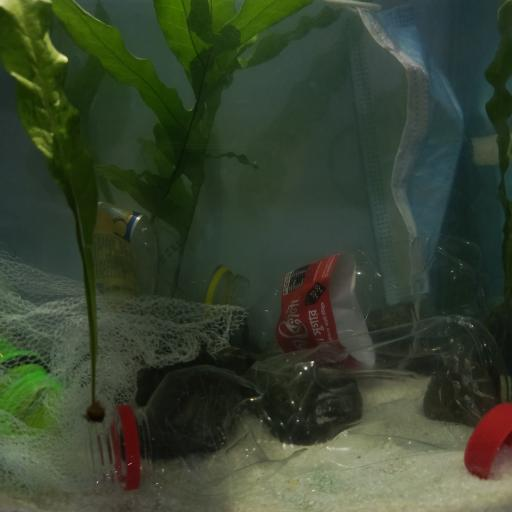bottle_cap: (464, 399, 512, 480)
mask: (346, 0, 465, 309)
net: (0, 250, 251, 498)
plastic_bottle: (90, 315, 504, 488), (236, 242, 484, 360), (26, 190, 252, 311), (0, 328, 63, 434)
